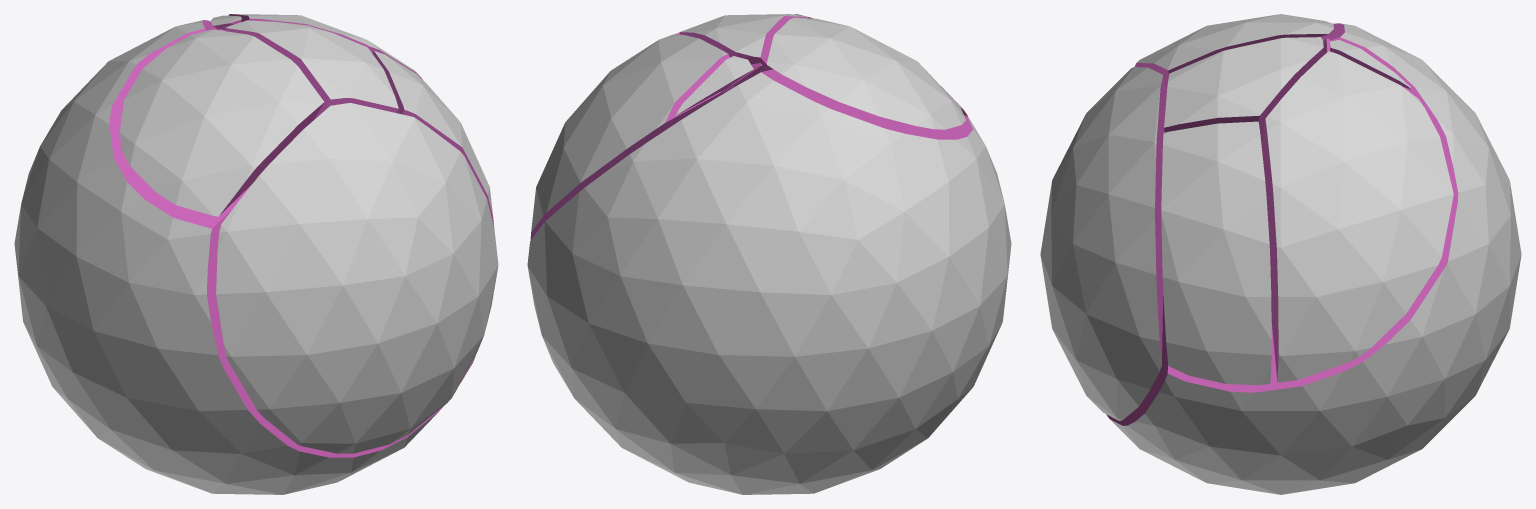
File: lollipopDebris.fbx
3 views of the same model, side by side, from view 1: azimuth 30°, elevation 25°; view 2: azimuth 150°, elevation 25°; view 3: azimuth 270°, elevation 25° (orthographic).
Visible parts, largest first — view 1: Icosphere.002_cell.001, Icosphere.002_cell, Icosphere.002_cell.002, Icosphere.002_cell.003_cell.005, Icosphere.002_cell.003_cell.003, Icosphere.002_cell.003_cell.004; view 2: Icosphere.002_cell, Icosphere.002_cell.003_cell.004, Icosphere.002_cell.002, Icosphere.002_cell.003_cell.005, Icosphere.002_cell.003_cell.002; view 3: Icosphere.002_cell, Icosphere.002_cell.003_cell.004, Icosphere.002_cell.001, Icosphere.002_cell.003_cell.003, Icosphere.002_cell.003_cell.005, Icosphere.002_cell.002, Icosphere.002_cell.003_cell.002.
Part boxes in pixels (x1,y1,x2,y2): Icosphere.002_cell.001: (216,103,498,453); Icosphere.002_cell: (14,20,493,494); Icosphere.002_cell.002: (119,29,324,216); Icosphere.002_cell.003_cell.005: (225,20,398,120); Icosphere.002_cell.003_cell.003: (372,51,494,226); Icosphere.002_cell.003_cell.004: (228,14,423,80); Icosphere.002_cell: (527,69,1011,494); Icosphere.002_cell.003_cell.004: (530,34,734,240); Icosphere.002_cell.002: (767,17,965,129); Icosphere.002_cell.003_cell.005: (679,14,807,86); Icosphere.002_cell.003_cell.002: (675,56,753,115); Icosphere.002_cell: (1106,23,1521,494); Icosphere.002_cell.003_cell.004: (1261,51,1453,382); Icosphere.002_cell.001: (1040,67,1166,420); Icosphere.002_cell.003_cell.003: (1161,121,1271,385); Icosphere.002_cell.003_cell.005: (1164,37,1323,145); Icosphere.002_cell.002: (1134,14,1333,87); Icosphere.002_cell.003_cell.002: (1329,40,1411,89).
Bounding box in the file's own units: 436 × 436 × 436.
